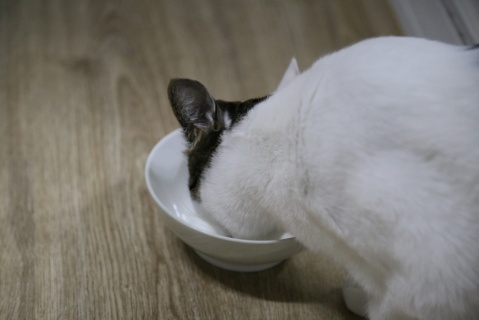Cat: (169, 34, 479, 319)
